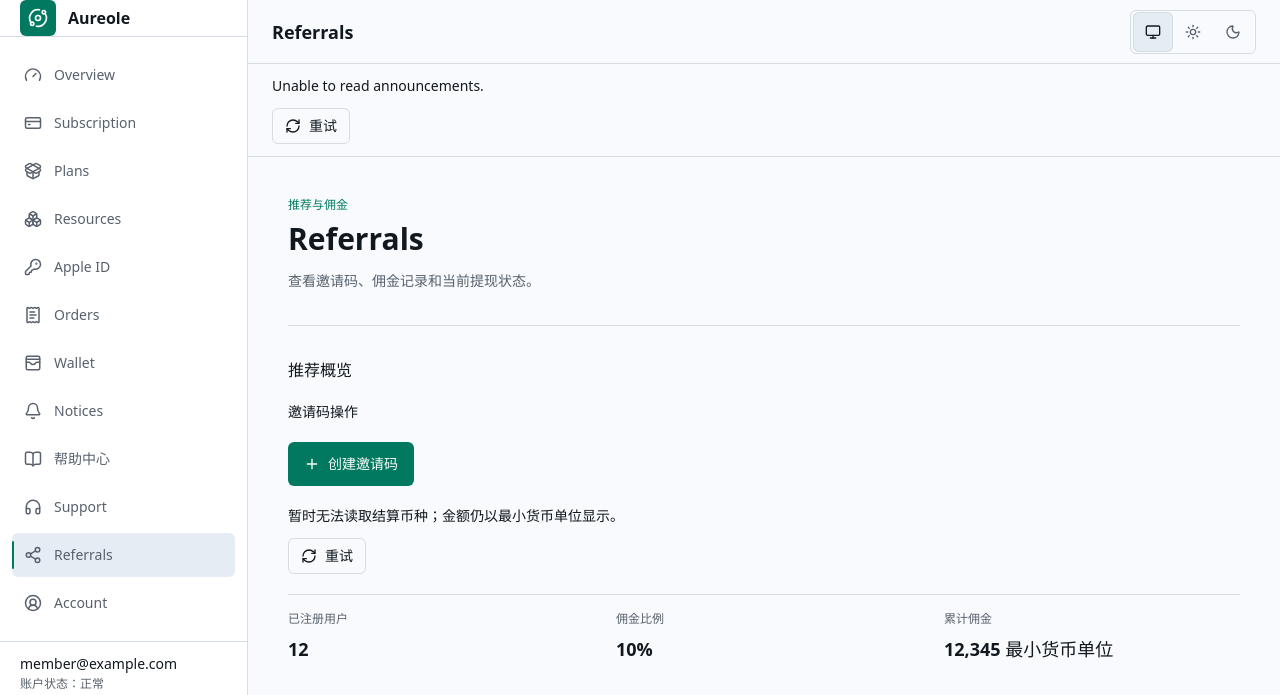
Test: Referrals page › keeps every referral section visible while Account Config fails and retries it
Check: the text "12,345 最小货币单位" is shown, box top-left (944, 637), bottom-right (1113, 661)
Check: the text "暂时无法读取结算币种；金额仍以最小货币单位显示。" is shown, box top-left (288, 506), bottom-right (624, 525)
Click the button "重试" below "暂时无法读取结算币种；金额仍以最小货币单位显示。" at (327, 556), box top-left (288, 538), bottom-right (366, 574)
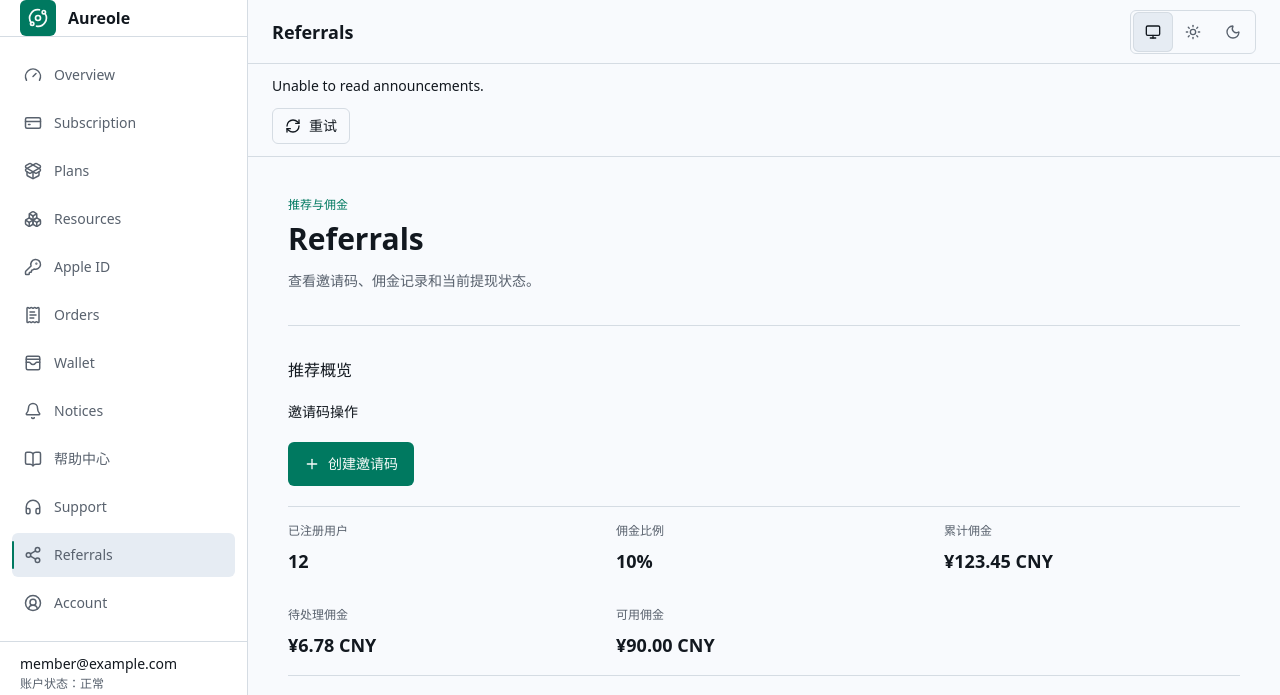
Check: the text "¥123.45 CNY" is shown, box top-left (944, 549), bottom-right (1053, 573)
